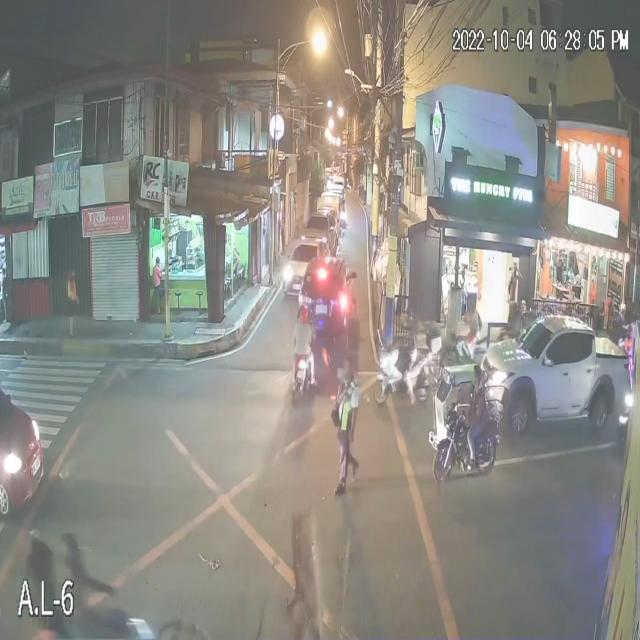Full-Faced: (60, 532, 90, 574), (297, 300, 312, 326), (398, 307, 412, 326)
